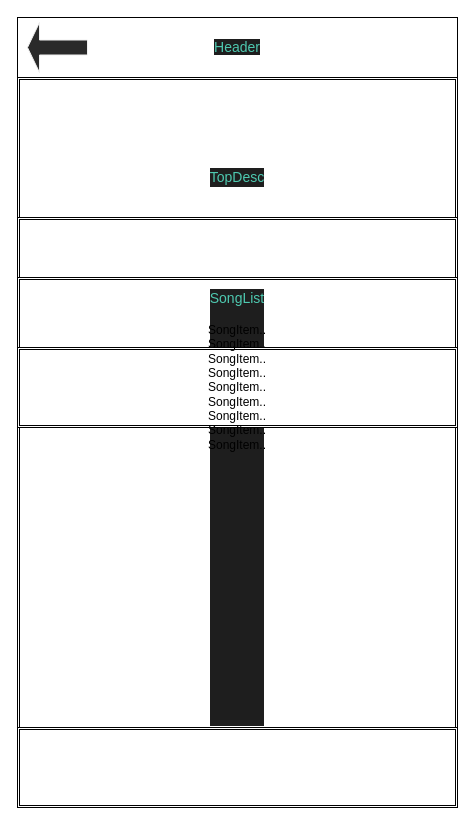
The diagram is 475 pixels wide and 825 high, and some of its shapes have lost their labels. Each missing label, with the box of its shape:
Menu: (16, 216, 458, 288)
返回按钮: (26, 22, 88, 72)
